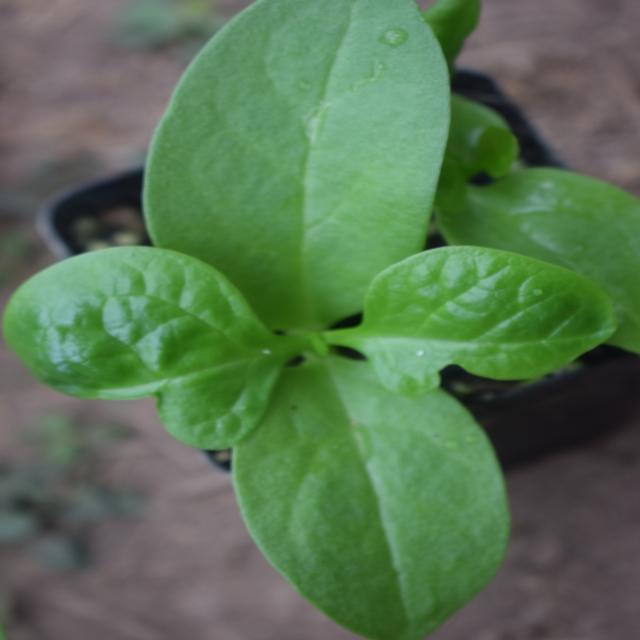Ceylon spinach: (38, 38, 618, 608)
